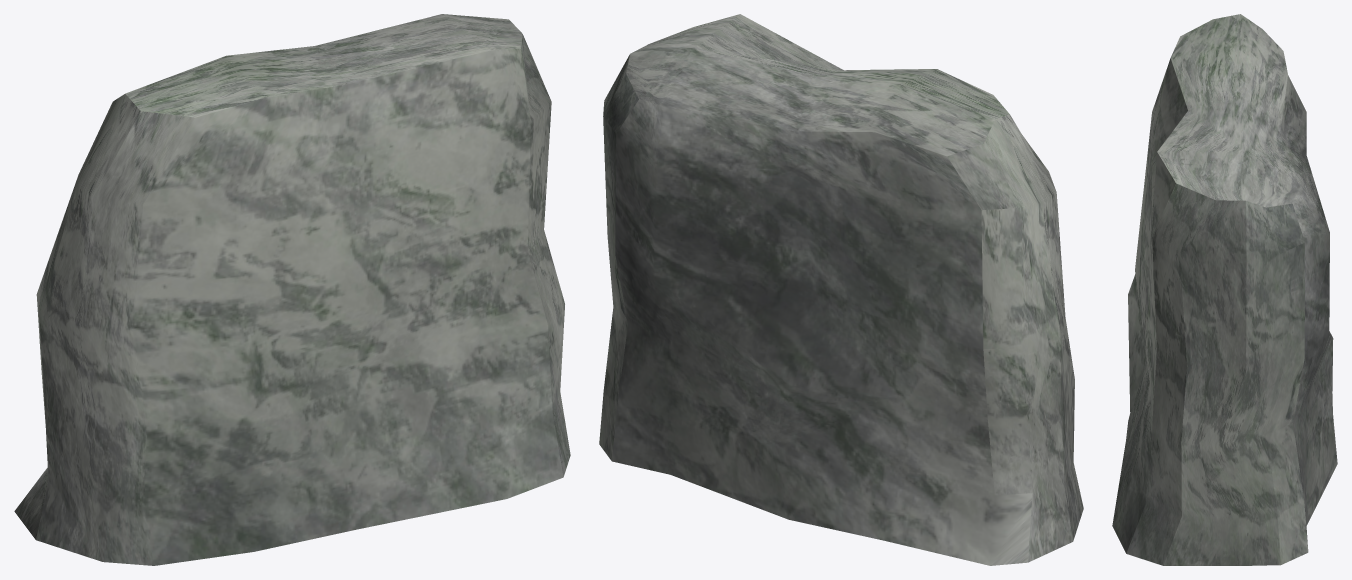
The model's file is gakeRoad1.fbx.
The picture shows the model from 3 angles, left to right: view 1: azimuth 30°, elevation 25°; view 2: azimuth 150°, elevation 25°; view 3: azimuth 270°, elevation 25°; orthographic projection. The views are drawn at different scales.
Visible parts, largest first — view 1: gakeRoad1; view 2: gakeRoad1; view 3: gakeRoad1.
Boxes of the visible parts, <box> form: gakeRoad1: <box>14,14,570,565</box>; gakeRoad1: <box>599,14,1083,565</box>; gakeRoad1: <box>1112,14,1337,565</box>.
Size of the model in its own units: 74.57 by 62.71 by 32.87.
Materials: 1 (1 with a texture image).
